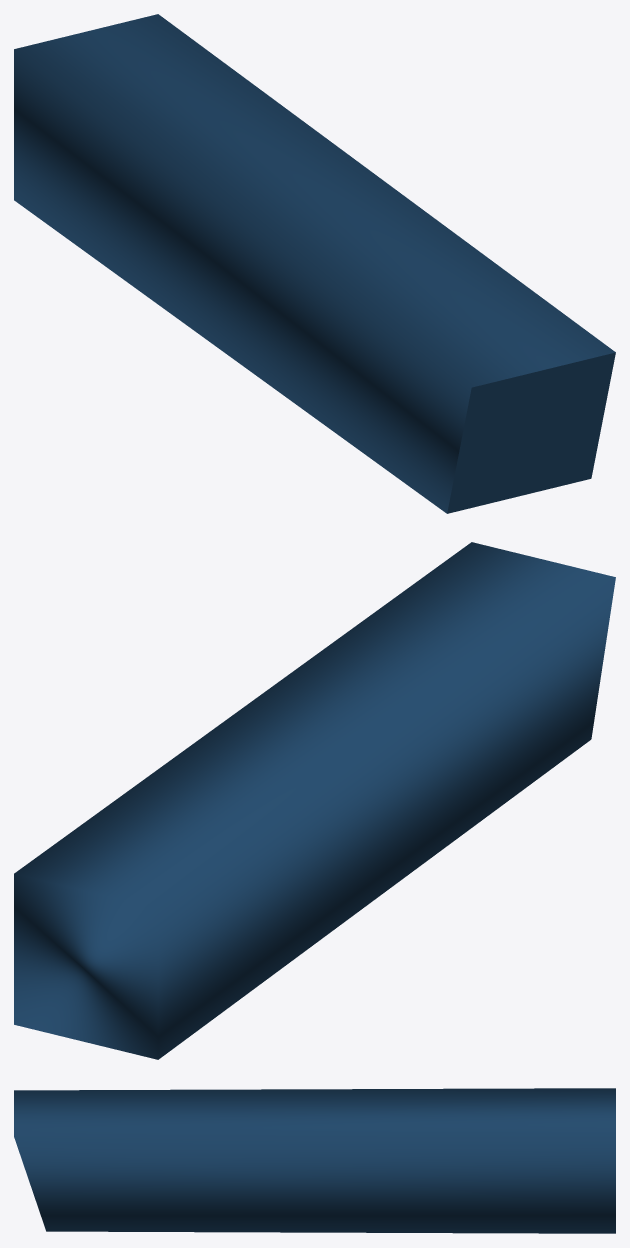
The model's file is B_Stone_02_Break_B.fbx.
3 views of the same model, one above another, from view 1: azimuth 30°, elevation 25°; view 2: azimuth 150°, elevation 25°; view 3: azimuth 270°, elevation 25° (orthographic). The views are drawn at different scales.
Parts seen in each view (by area): view 1: B_Stone_02_Break_B; view 2: B_Stone_02_Break_B; view 3: B_Stone_02_Break_B.
Part boxes in pixels (left/top/right/bottom): B_Stone_02_Break_B: left=14, top=14, right=615, bottom=513; B_Stone_02_Break_B: left=14, top=542, right=615, bottom=1059; B_Stone_02_Break_B: left=14, top=1088, right=615, bottom=1233.
Size of the model in its own units: 35.46 by 35.46 by 195.
